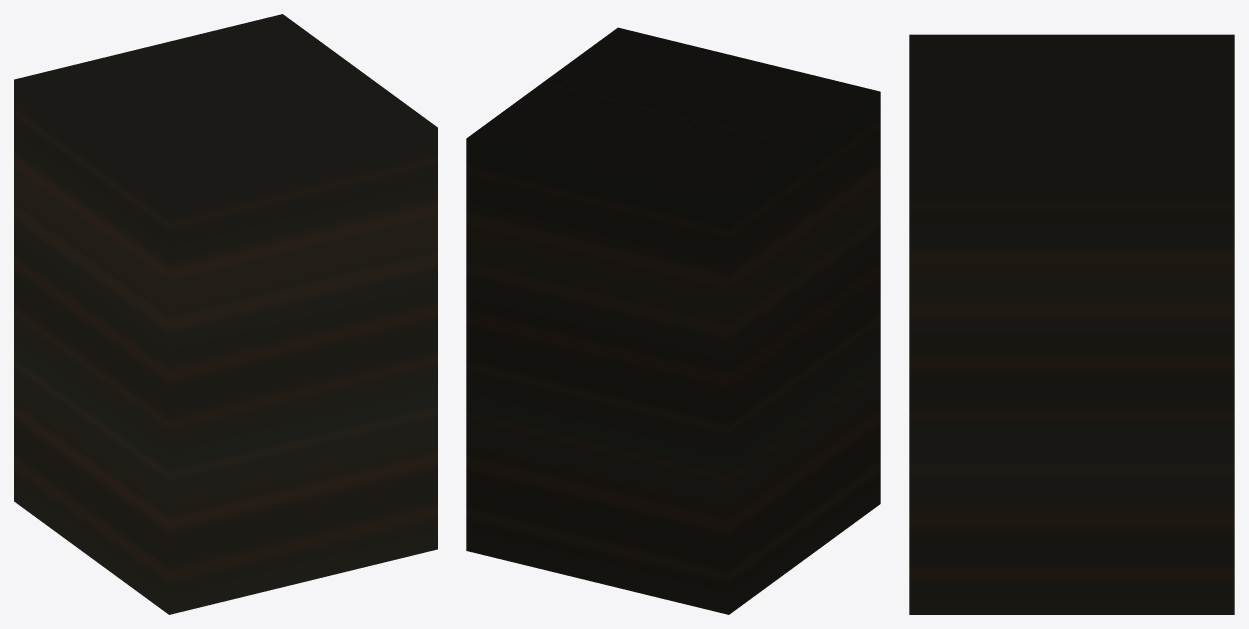
The model's file is trap_t9_sentry_turret.glb.
The picture shows the model from 3 angles, left to right: view 1: azimuth 30°, elevation 25°; view 2: azimuth 150°, elevation 25°; view 3: azimuth 270°, elevation 25°; orthographic projection. The views are drawn at different scales.
Visible parts, largest first — view 1: trap_t9_sentry_turret; view 2: trap_t9_sentry_turret; view 3: trap_t9_sentry_turret.
Part boxes in pixels (<box>): trap_t9_sentry_turret: <box>14,14,437,614</box>; trap_t9_sentry_turret: <box>466,27,880,614</box>; trap_t9_sentry_turret: <box>909,34,1234,614</box>.
Bounding box in the file's own units: 0.9 × 1.47 × 0.9.
Materials: 1 (1 with a texture image).
